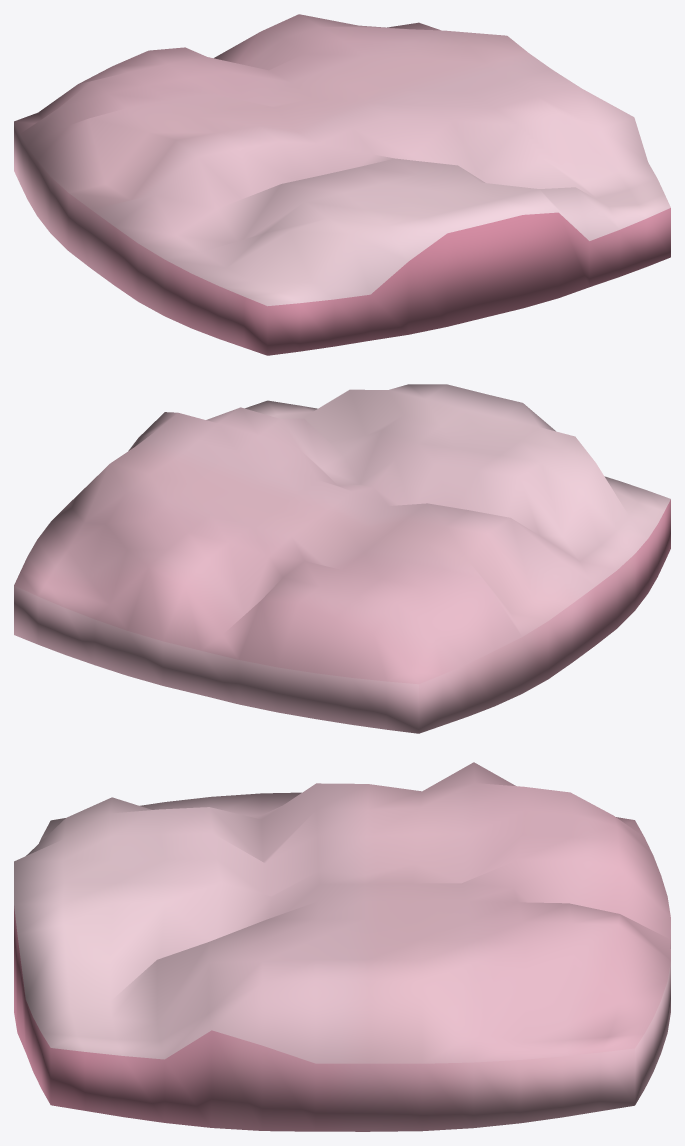
File: RockFloor.fbx
3 renders of one model, top to bottom at view 1: azimuth 30°, elevation 25°; view 2: azimuth 150°, elevation 25°; view 3: azimuth 270°, elevation 25°, orthographic. The views are drawn at different scales.
Visible parts, largest first — view 1: RockFloor; view 2: RockFloor; view 3: RockFloor.
Part boxes in pixels (x1,y1,x2,y2): RockFloor: [14, 14, 670, 355]; RockFloor: [14, 384, 670, 733]; RockFloor: [14, 762, 670, 1131].
Size of the model in its own units: 765 by 166 by 783.
